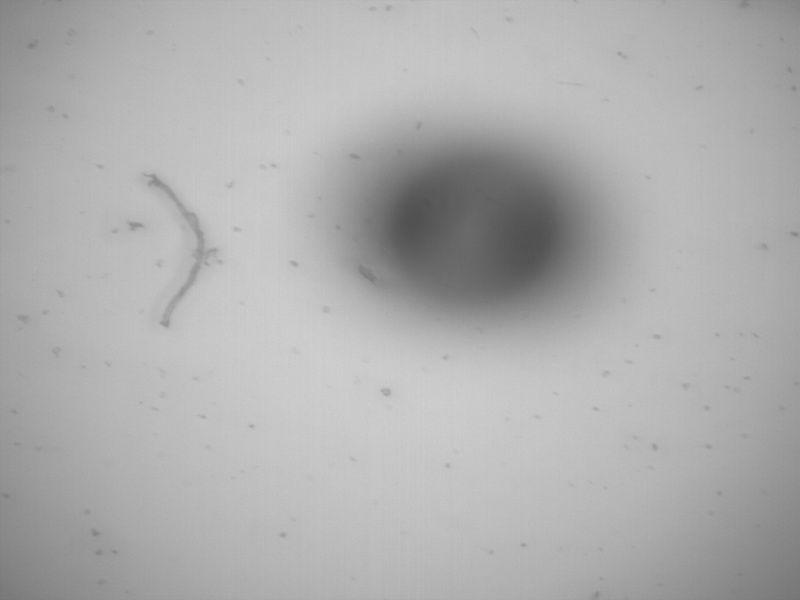bead: (386, 152, 560, 308)
fiber: (145, 170, 206, 333)
